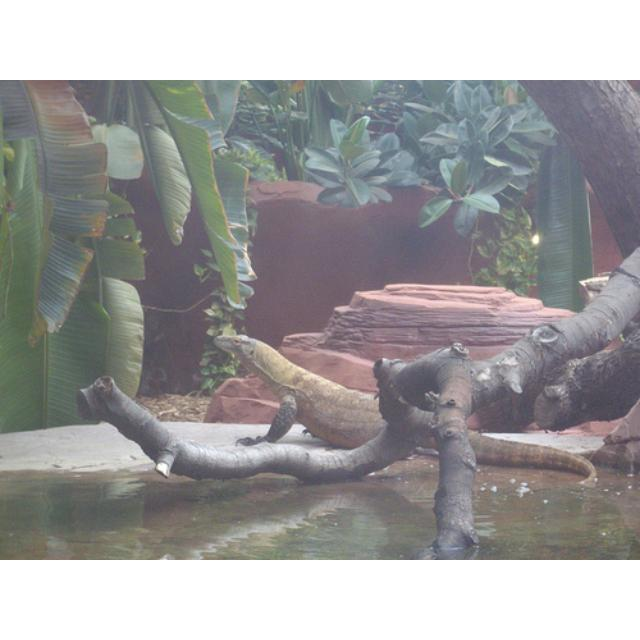KomodoDragon: (213, 331, 598, 487)
